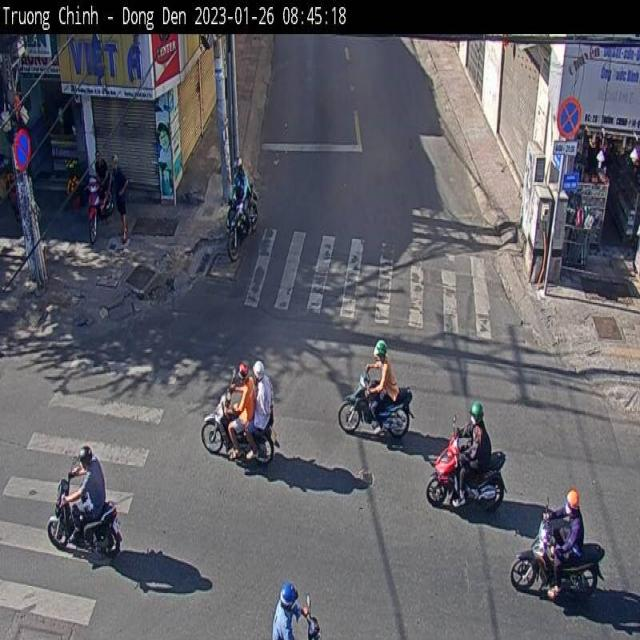helmet: (230, 344, 257, 390), (275, 576, 298, 618), (464, 392, 487, 428), (253, 352, 272, 388), (367, 335, 388, 367), (76, 437, 93, 476)
